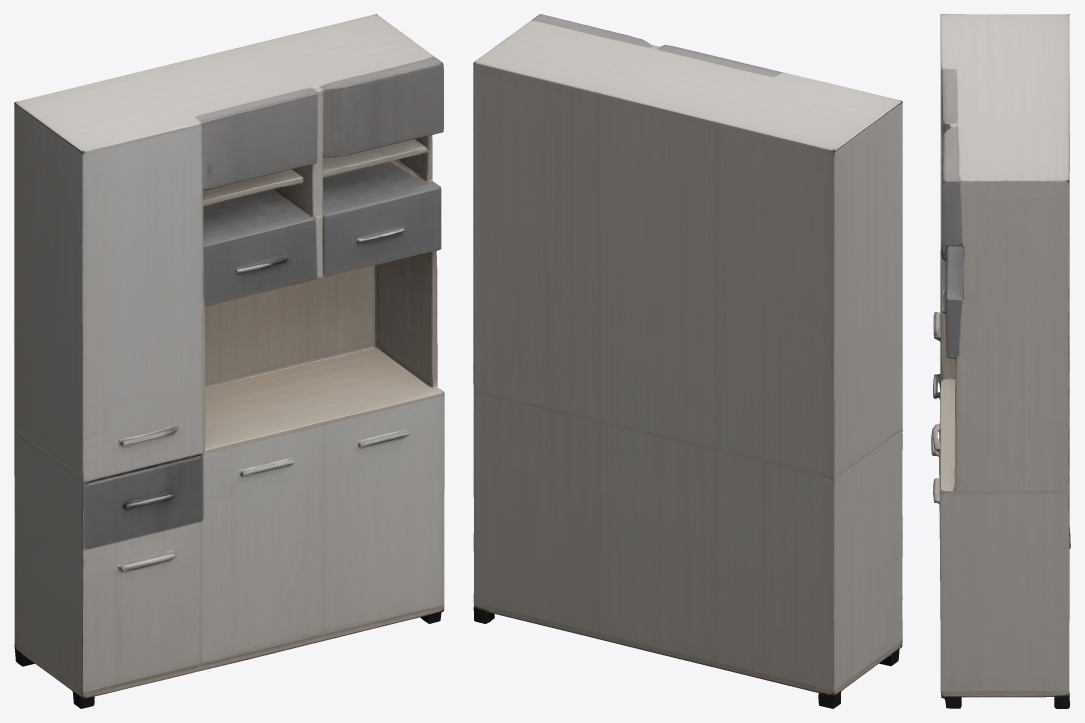
The model's file is romeo_kitchen_combo_baf.glb.
3 renders of one model, left to right at view 1: azimuth 30°, elevation 25°; view 2: azimuth 150°, elevation 25°; view 3: azimuth 270°, elevation 25°, orthographic. The views are drawn at different scales.
Parts seen in each view (by area): view 1: world; view 2: world; view 3: world.
Boxes of the visible parts, bbox=[...] form: world: bbox=[14, 14, 444, 708]; world: bbox=[473, 14, 902, 708]; world: bbox=[931, 14, 1070, 708].
Bounding box in the file's own units: 0.6783 × 1 × 0.2392.
1 material, 1 textured.
